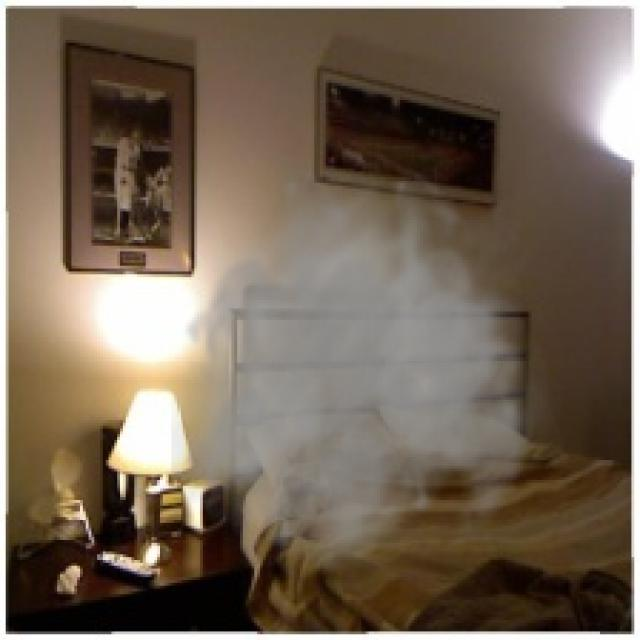smoke: (171, 163, 566, 580)
